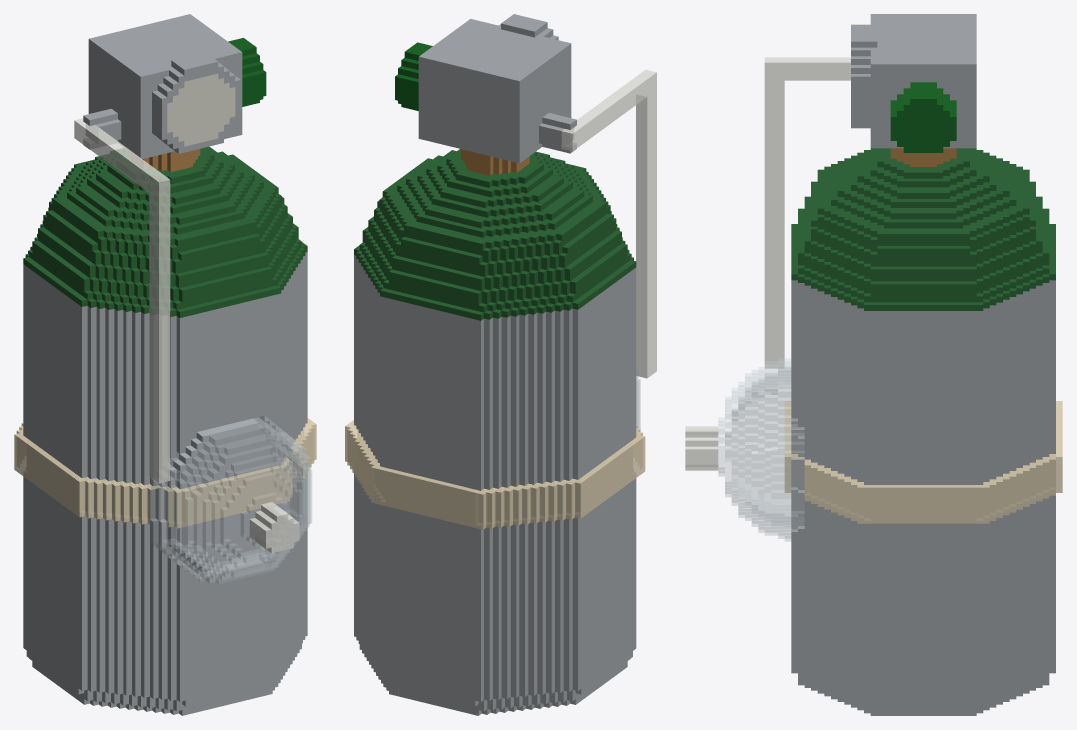
The model's file is smoxygen_tank.glb.
3 views of the same model, side by side, from view 1: azimuth 30°, elevation 25°; view 2: azimuth 150°, elevation 25°; view 3: azimuth 270°, elevation 25° (orthographic). The views are drawn at different scales.
Parts seen in each view (by area): view 1: smoxygen_tank:compound; view 2: smoxygen_tank:compound; view 3: smoxygen_tank:compound.
Part boxes in pixels (x1,y1,x2,y2): smoxygen_tank:compound: [14, 14, 316, 715]; smoxygen_tank:compound: [345, 14, 656, 715]; smoxygen_tank:compound: [685, 14, 1062, 715].
Size of the model in its own units: 0.084 by 0.21 by 0.114.
